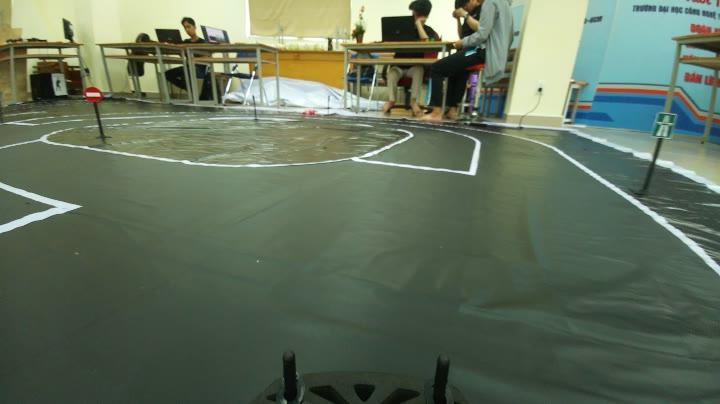highway_entry: (650, 110, 678, 141)
no_entry: (76, 85, 111, 107)
